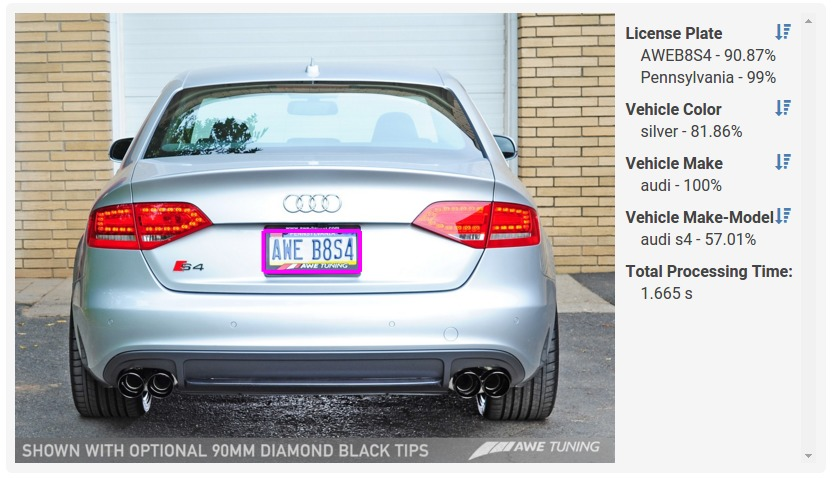license plate: (263, 229, 356, 268)
